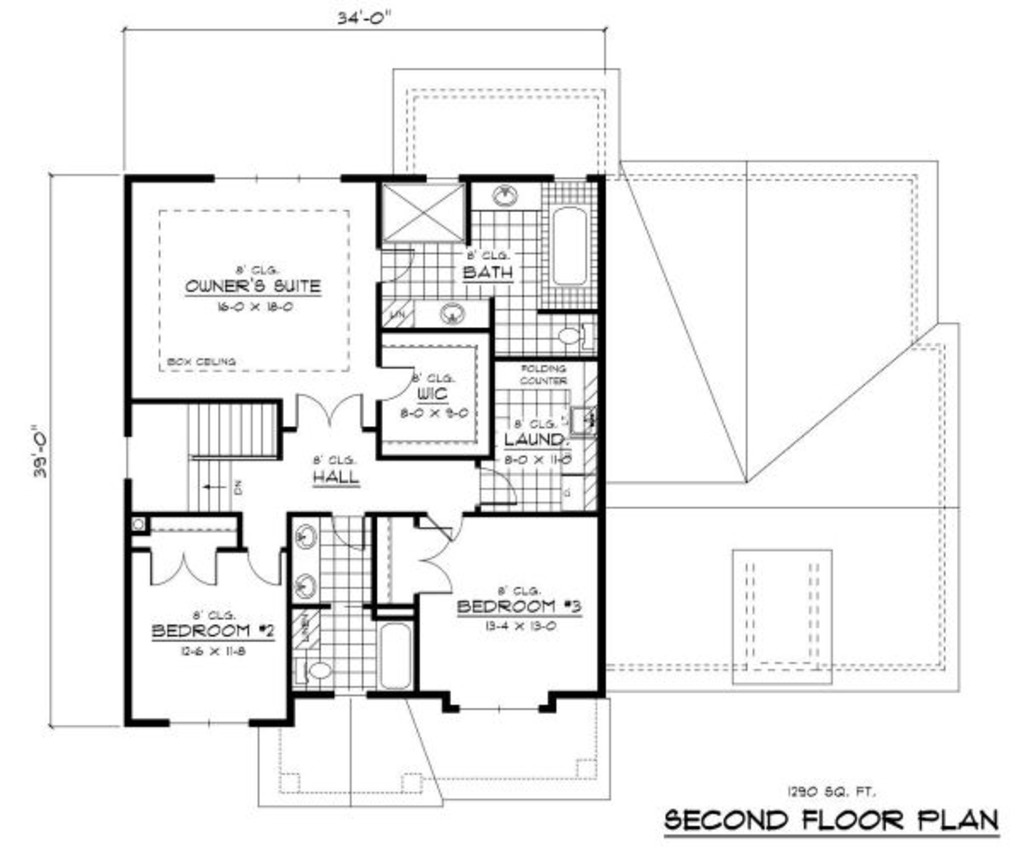door: (143, 546, 220, 587), (294, 393, 367, 436), (419, 524, 452, 593), (374, 361, 416, 403), (243, 549, 284, 587)
small_sink: (286, 519, 325, 608), (410, 294, 493, 329), (461, 179, 544, 212), (289, 655, 335, 688)
stairs: (128, 397, 281, 512)
tub: (539, 185, 601, 305), (372, 617, 418, 696)
windows: (209, 169, 346, 189), (455, 695, 542, 717), (163, 715, 256, 731)
